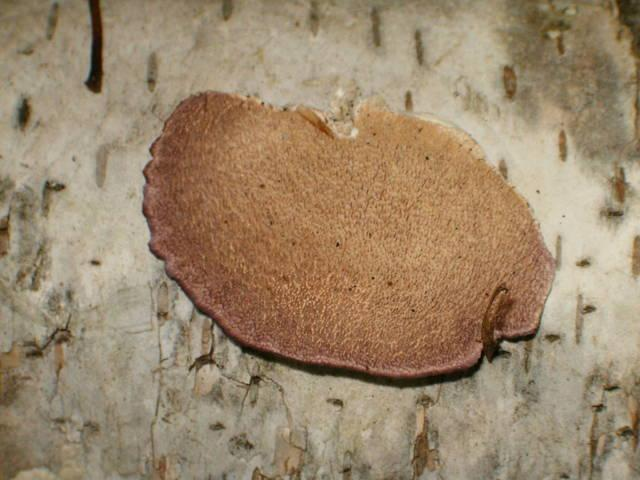poisonous_mushroom: (140, 88, 557, 381)
